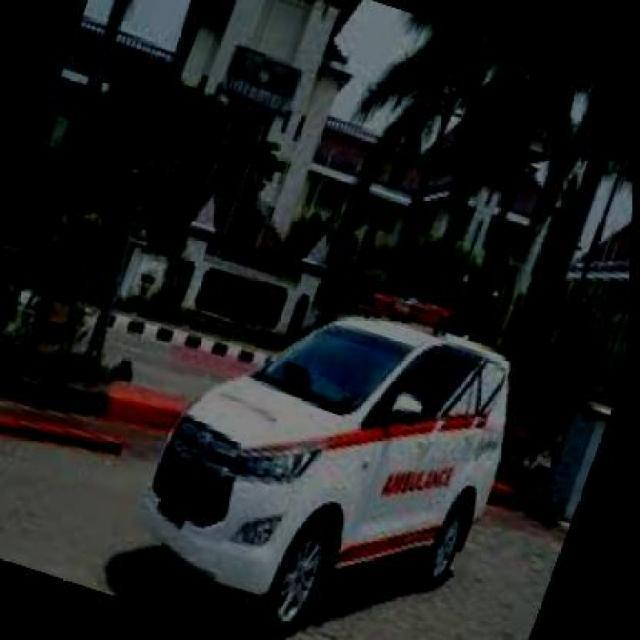emergency-vehicle: (114, 252, 543, 640)
